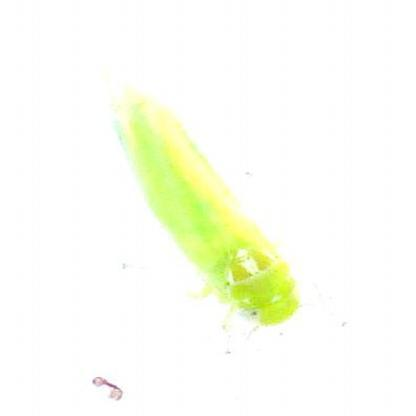green-leafhopper: (115, 90, 306, 332)
